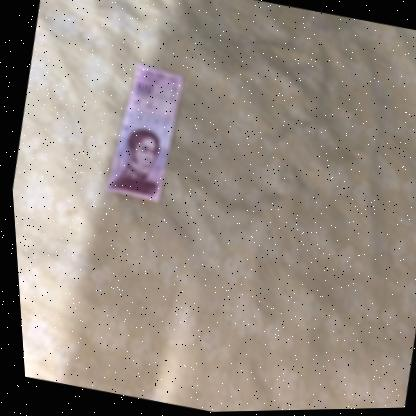one_hundred-front-vef: (93, 60, 189, 204)
